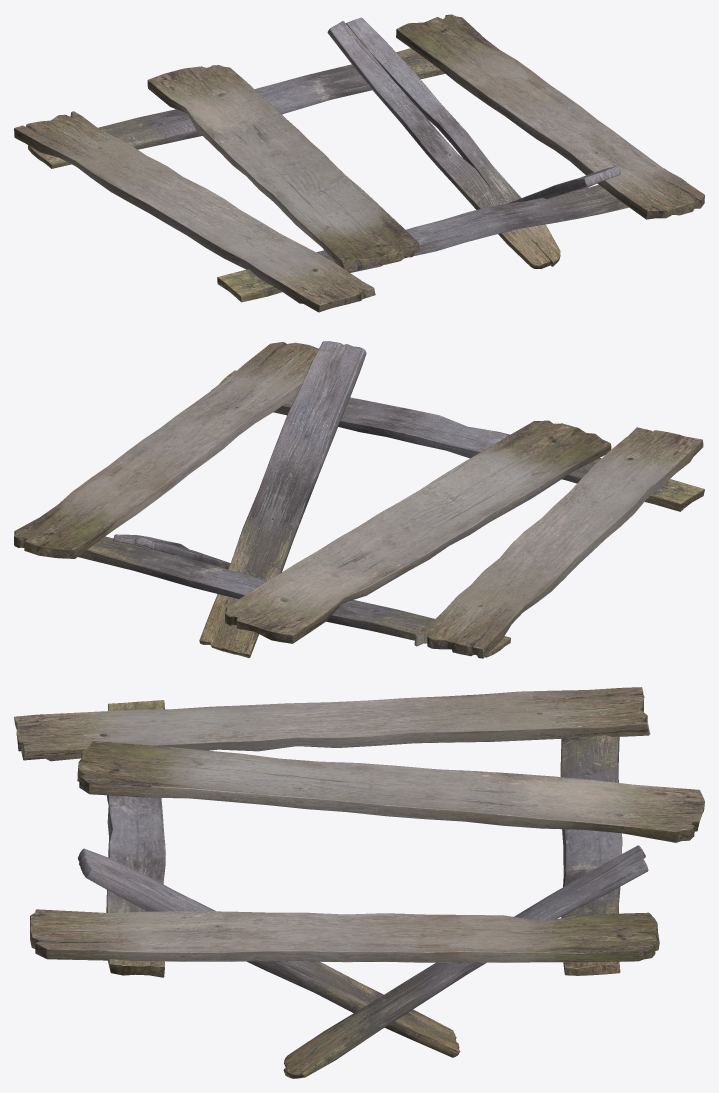
Rendered from SM_WoodPlank_01_12_bridge.fbx.
3 views of the same model, one above another, from view 1: azimuth 30°, elevation 25°; view 2: azimuth 150°, elevation 25°; view 3: azimuth 270°, elevation 25° (orthographic). The views are drawn at different scales.
Parts seen in each view (by area): view 1: sm_WoodPlank_01_12_bridge_LOD0; view 2: sm_WoodPlank_01_12_bridge_LOD0; view 3: sm_WoodPlank_01_12_bridge_LOD0.
Part boxes in pixels (bbox=[...]): sm_WoodPlank_01_12_bridge_LOD0: bbox=[14, 14, 704, 312]; sm_WoodPlank_01_12_bridge_LOD0: bbox=[14, 341, 704, 658]; sm_WoodPlank_01_12_bridge_LOD0: bbox=[14, 687, 704, 1078].
Size of the model in its own units: 164 by 152 by 56.25.
